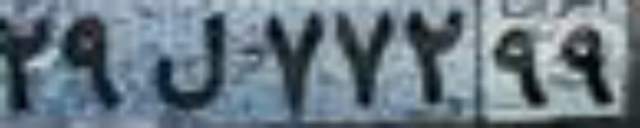2: (405, 6, 473, 104), (2, 16, 55, 113)
7: (262, 9, 327, 116), (335, 9, 393, 106)
9: (60, 16, 126, 111), (487, 29, 545, 108), (560, 24, 612, 106)
lam: (153, 12, 227, 111)
